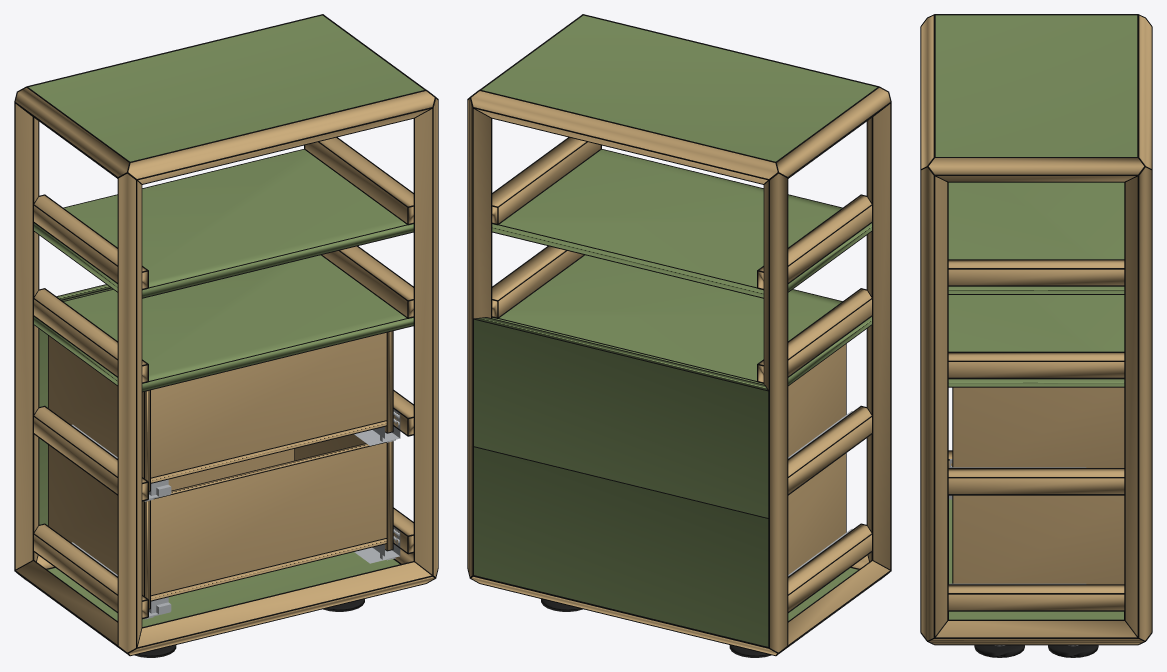
File: 003-commode.glb
3 renders of one model, left to right at view 1: azimuth 30°, elevation 25°; view 2: azimuth 150°, elevation 25°; view 3: azimuth 270°, elevation 25°, orthographic.
Visible parts, largest first — view 1: panneau-dessus_exterieur, tablette-plate-mod-3, drawer-box-avant-mod-0, tablette-plate-mod-2, drawer-box-avant-mod-1, arete-Z0, arete-Z1, arete-Z2, arete-X2, arete-X0, drawer-box-joue_g-mod-0, panneau-dessous (+36 smaller); view 2: drawer-box-facade-mod-1, drawer-box-facade-mod-0, panneau-dessus_exterieur, tablette-plate-mod-3, tablette-plate-mod-2, arete-Z0, arete-Z2, arete-X3, arete-Z3, drawer-box-joue_g-mod-0, drawer-box-joue_g-mod-1, tablette-traverse-right-mod-3 (+21 smaller); view 3: panneau-dessus_exterieur, drawer-box-joue_d-mod-0, tablette-plate-mod-3, drawer-box-joue_d-mod-1, arete-Z1, arete-Z3, tablette-plate-mod-2, arete-Y3, arete-Y1, drawer-tr-drawer-traverse-right-mod-0, tablette-traverse-right-mod-3, drawer-tr-drawer-traverse-right-mod-1 (+18 smaller).
Boxes of the visible parts, box(x1,y1,x2,y2) form: panneau-dessus_exterieur: box(28, 15, 423, 161); tablette-plate-mod-3: box(34, 149, 413, 297); drawer-box-avant-mod-0: box(151, 442, 386, 595); tablette-plate-mod-2: box(34, 255, 413, 391); drawer-box-avant-mod-1: box(151, 333, 386, 477); arete-Z0: box(118, 173, 141, 652); arete-Z1: box(415, 99, 437, 576); arete-Z2: box(15, 104, 38, 568); arete-X2: box(128, 91, 434, 183); arete-X0: box(129, 562, 434, 655); drawer-box-joue_g-mod-0: box(48, 445, 149, 608); panneau-dessous: box(47, 552, 399, 626); drawer-box-facade-mod-1: box(474, 317, 768, 517); drawer-box-facade-mod-0: box(474, 447, 768, 646); panneau-dessus_exterieur: box(482, 15, 877, 161); tablette-plate-mod-3: box(492, 149, 871, 297); tablette-plate-mod-2: box(492, 255, 871, 384); arete-Z0: box(867, 104, 890, 568); arete-Z2: box(764, 173, 787, 652); arete-X3: box(471, 91, 777, 183); arete-Z3: box(468, 99, 490, 576); drawer-box-joue_g-mod-0: box(788, 453, 845, 574); drawer-box-joue_g-mod-1: box(788, 344, 845, 456); tablette-traverse-right-mod-3: box(492, 137, 600, 223); panneau-dessus_exterieur: box(935, 15, 1137, 156); drawer-box-joue_d-mod-0: box(953, 495, 1124, 584); tablette-plate-mod-3: box(948, 182, 1124, 293); drawer-box-joue_d-mod-1: box(953, 387, 1124, 467); arete-Z1: box(921, 167, 947, 640); arete-Z3: box(1125, 167, 1151, 640); tablette-plate-mod-2: box(948, 295, 1124, 386); arete-Y3: box(929, 158, 1143, 181); arete-Y1: box(929, 621, 1143, 644); drawer-tr-drawer-traverse-right-mod-0: box(948, 585, 1124, 610); tablette-traverse-right-mod-3: box(948, 260, 1124, 285); drawer-tr-drawer-traverse-right-mod-1: box(948, 469, 1124, 493).
Size of the model in its own units: 0.5798 by 0.9015 by 0.3678.
